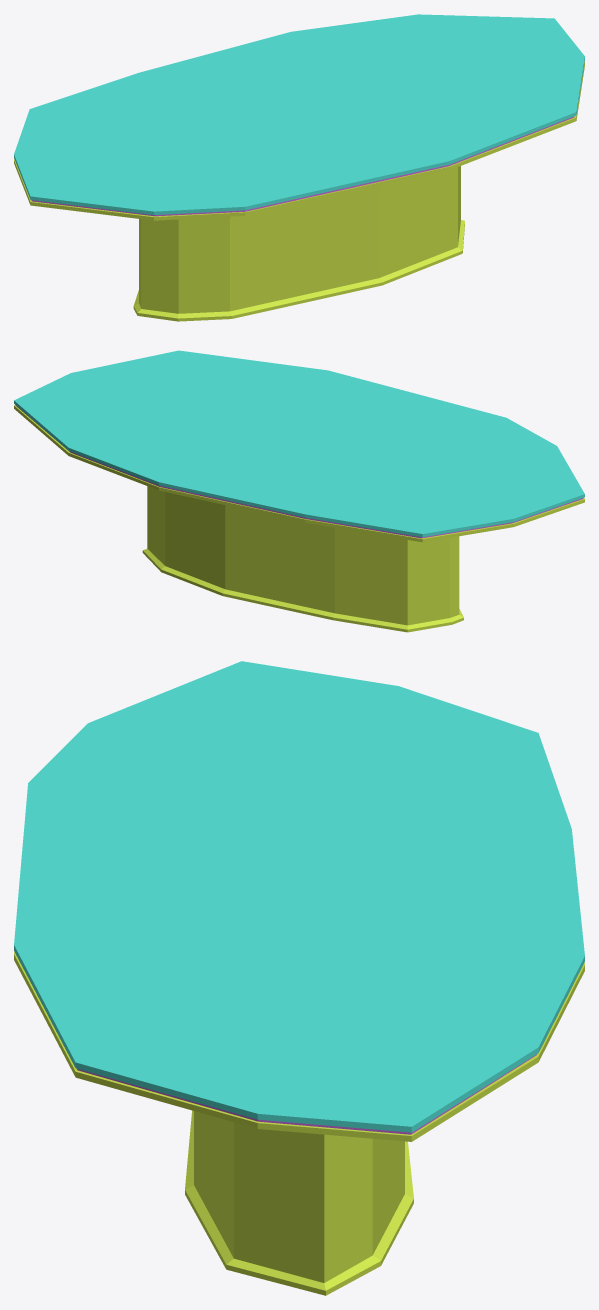
Rendered from Table_08.fbx.
3 views of the same model, one above another, from view 1: azimuth 30°, elevation 25°; view 2: azimuth 150°, elevation 25°; view 3: azimuth 270°, elevation 25° (orthographic). The views are drawn at different scales.
Parts seen in each view (by area): view 1: Table_08; view 2: Table_08; view 3: Table_08.
Part boxes in pixels (left/top/right/bottom): Table_08: left=14, top=14, right=584, bottom=321; Table_08: left=14, top=350, right=584, bottom=632; Table_08: left=14, top=661, right=584, bottom=1295.
Size of the model in its own units: 313 by 82.3 by 162.
